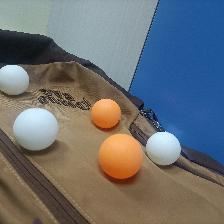WhiteBall: (12, 107, 57, 151), (145, 131, 180, 165), (0, 64, 29, 95)
YellowBall: (98, 133, 143, 179), (90, 98, 121, 127)
